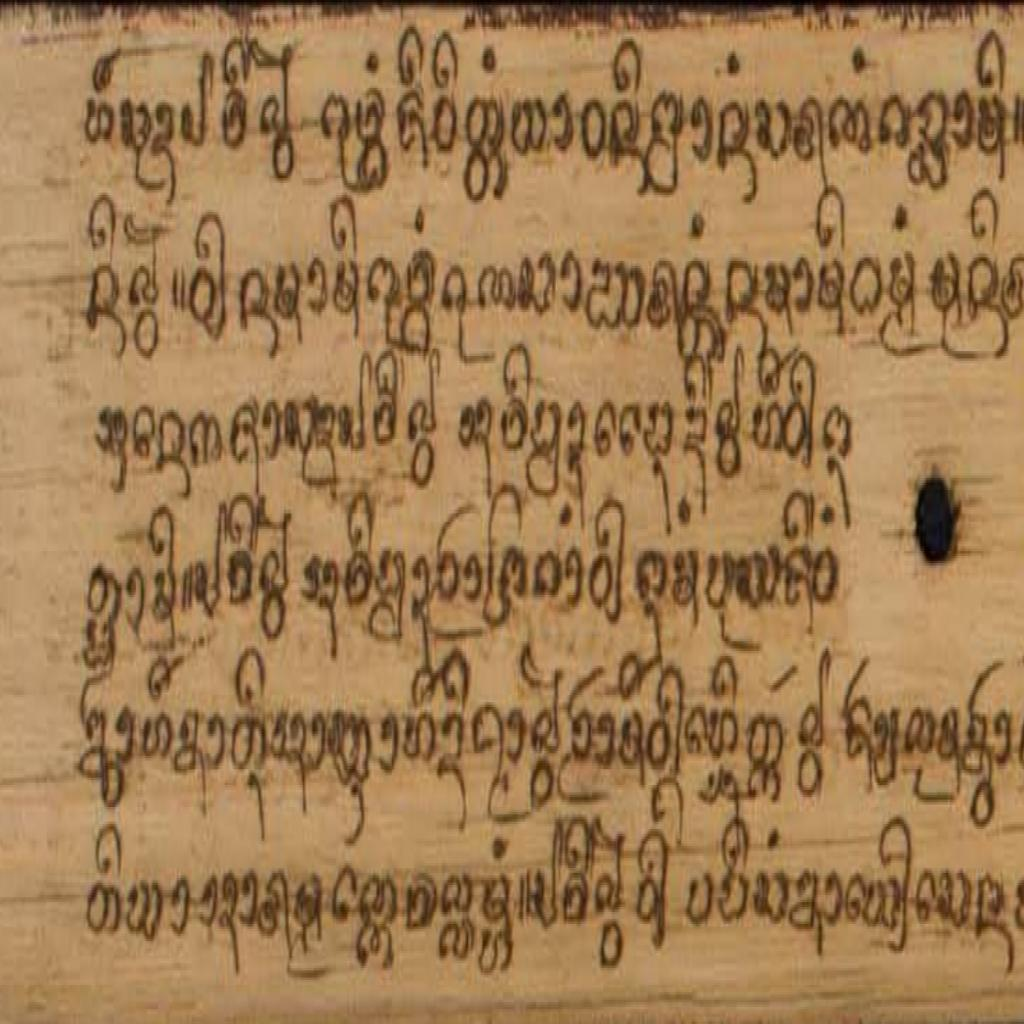LN018: (681, 402, 710, 470)
